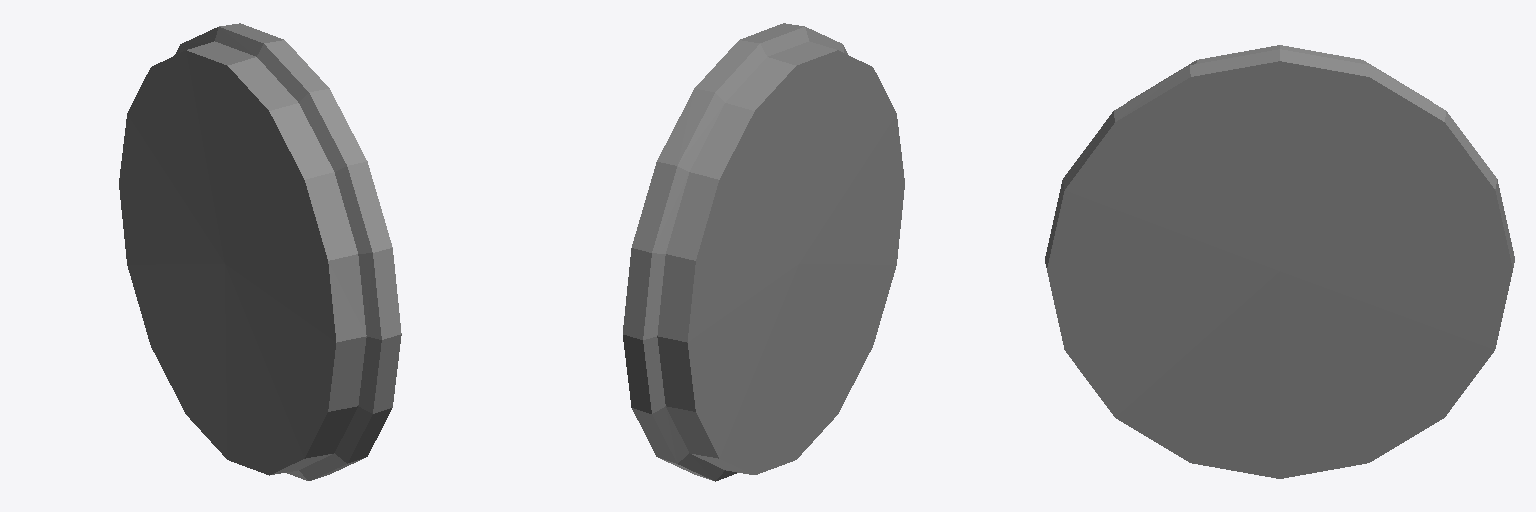
File: RuedaDer7.obj
3 renders of one model, left to right at view 1: azimuth 30°, elevation 25°; view 2: azimuth 150°, elevation 25°; view 3: azimuth 270°, elevation 25°, orthographic.
Parts seen in each view (by area): view 1: RuedaDer7; view 2: RuedaDer7; view 3: RuedaDer7.
Part boxes in pixels (x1,y1,x2,y2): RuedaDer7: (119,23,401,480); RuedaDer7: (623,23,904,481); RuedaDer7: (1045,45,1514,478).
Size of the model in its own units: 0.041 by 0.2641 by 0.2674.